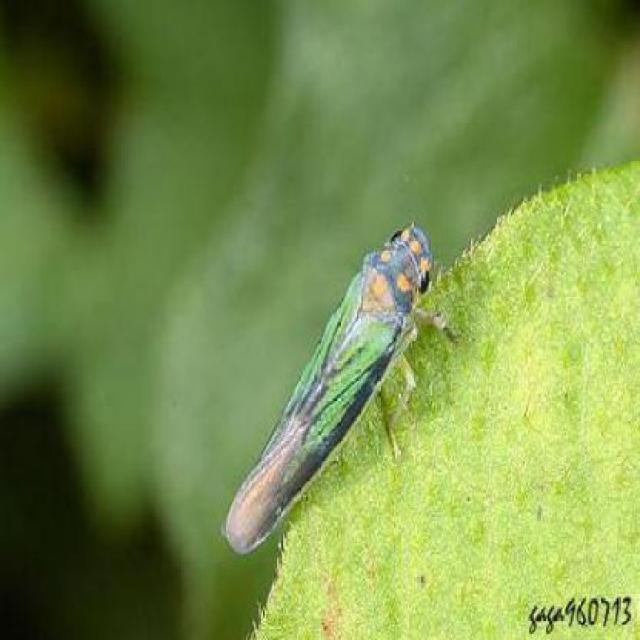green-leafhopper: (215, 219, 457, 555)
